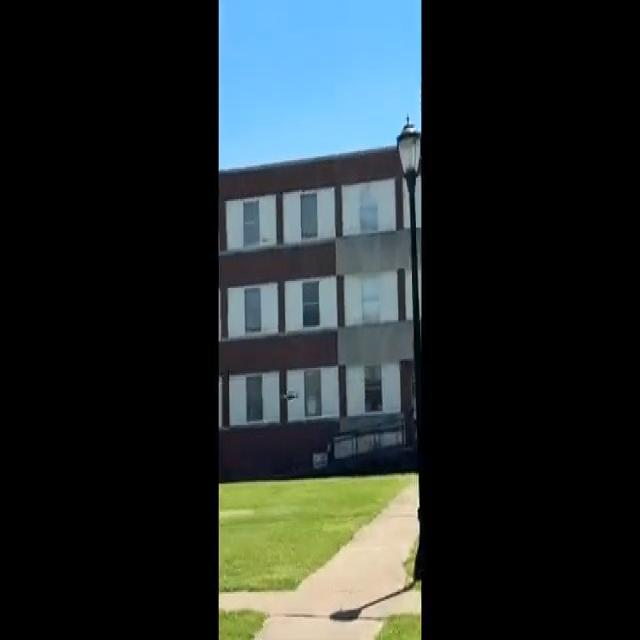drone: (276, 383, 308, 412)
